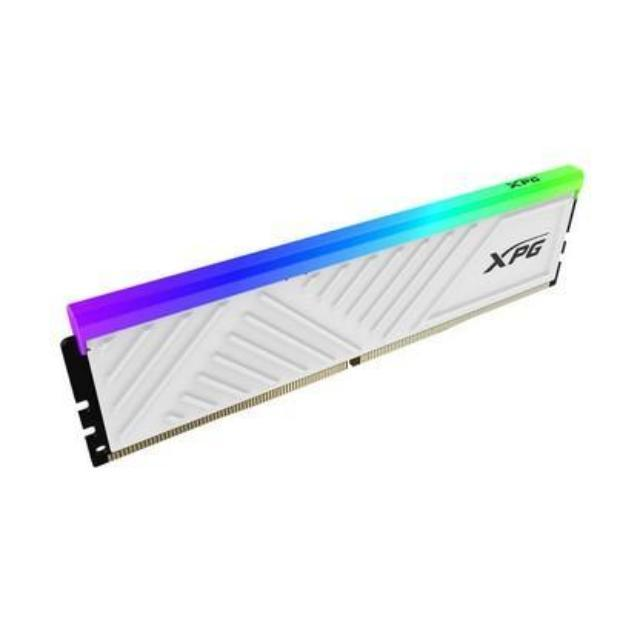RAM: (56, 158, 588, 468)
